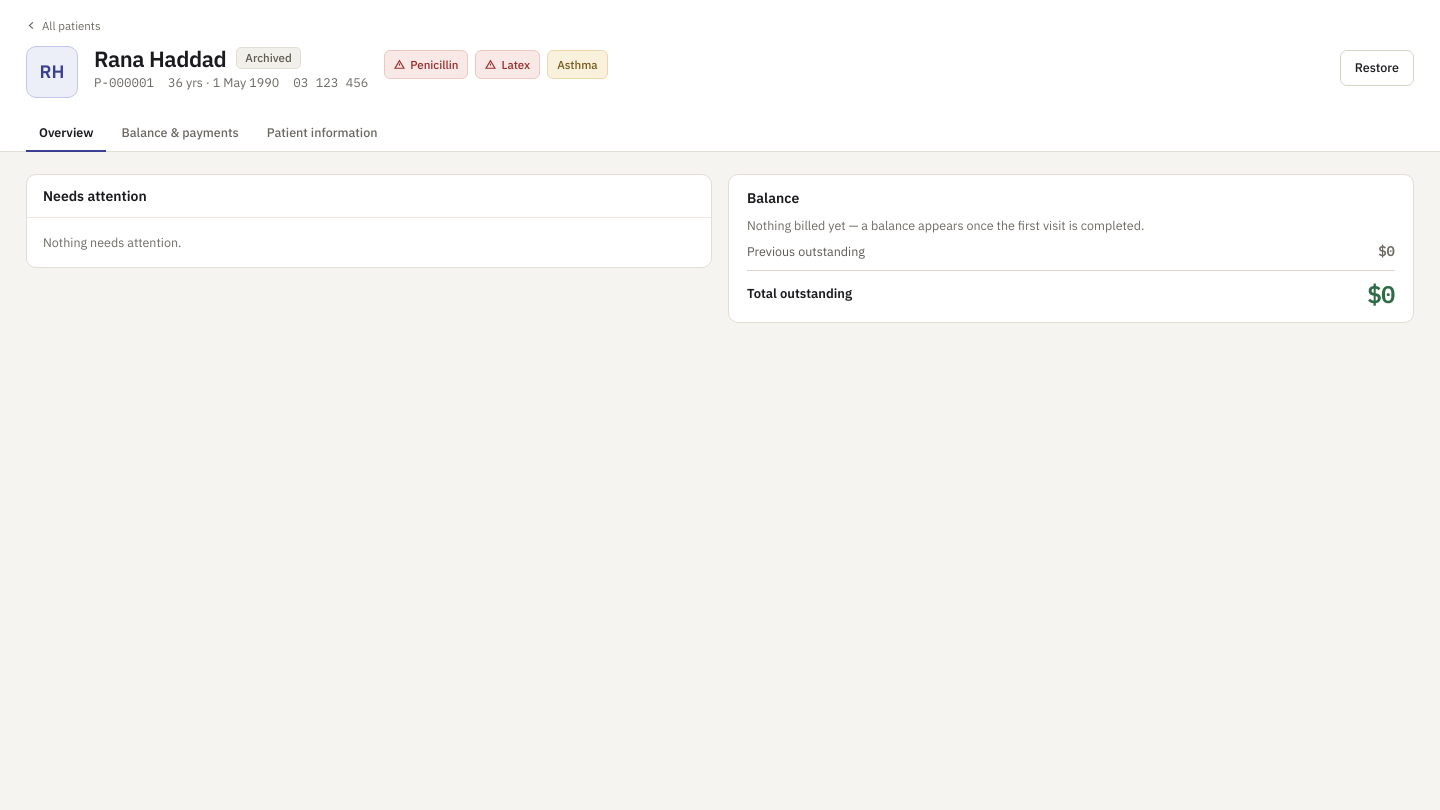
Test case: RecordHeader › says why a restore failed, in the person’s language
This screenshot has width=1440, height=810.
Click the button "Restore" at (1377, 68), box [1340, 50, 1414, 86]
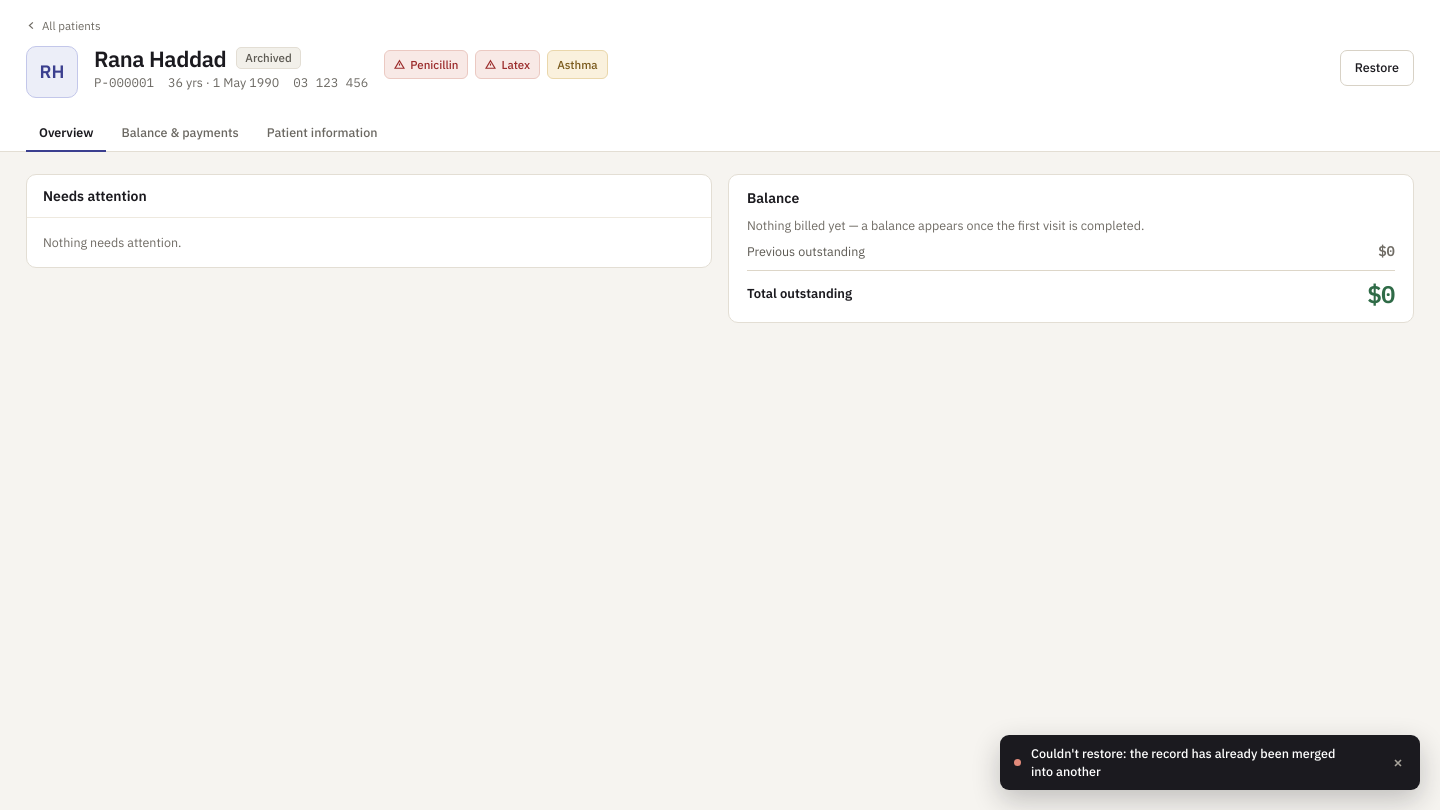
Now the text "Couldn't restore: the record has already been merged into another" is shown, box [1031, 745, 1376, 780]
